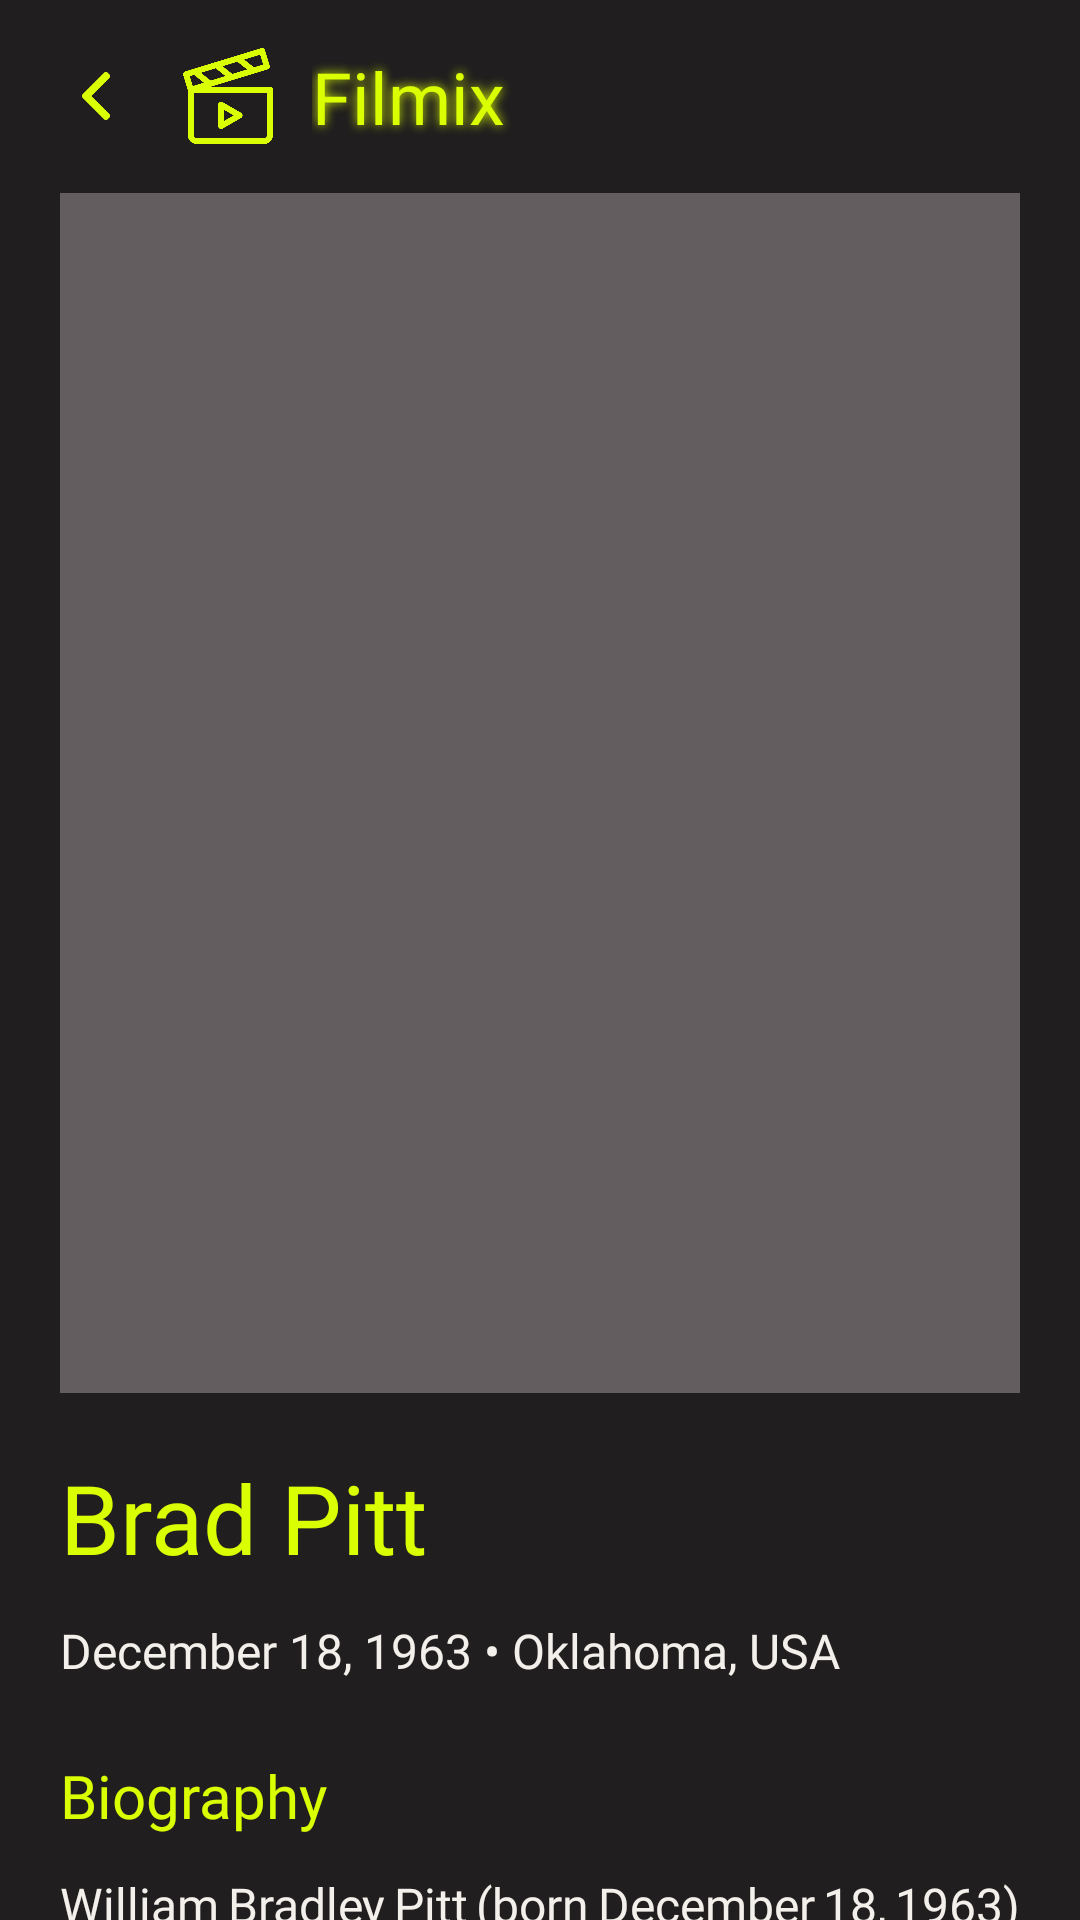

Point at icon controls on the screen. Image size 1080px×1920px, points as (x=x, y=y).
back: (x=96, y=96)
clapperboard: (x=228, y=96)
